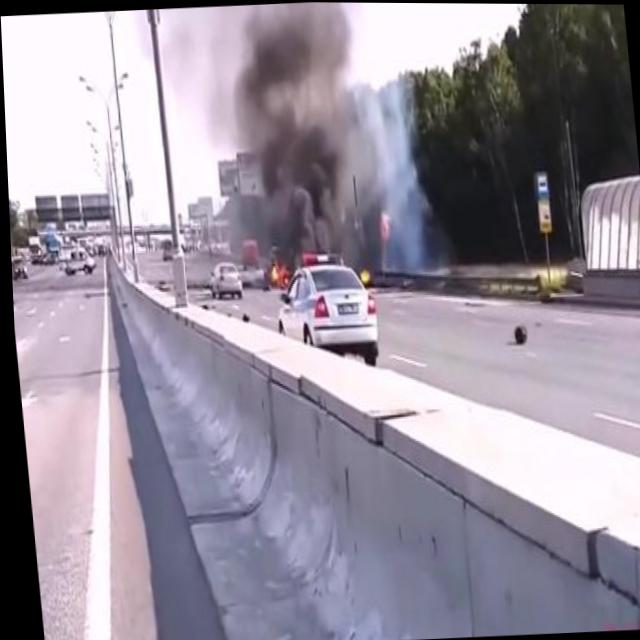fire: (261, 254, 289, 285), (374, 203, 391, 246), (356, 267, 371, 283)
